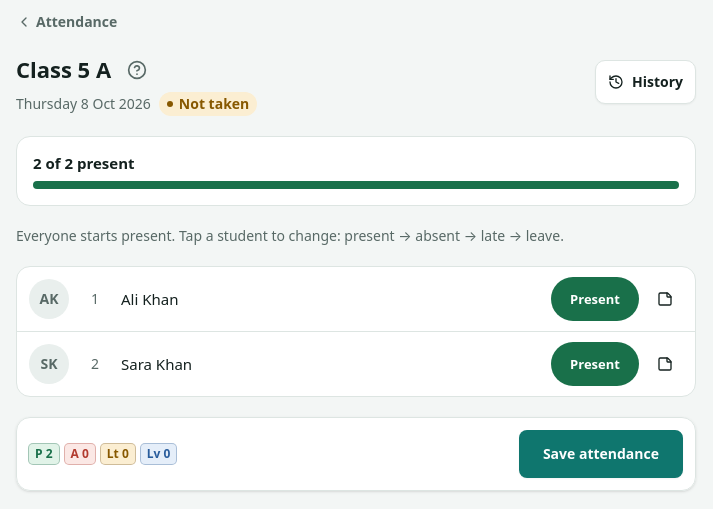
Test case: register row: the current mark is the word › a pill with Present → Absent → Late → Leave; the row keeps its aria-label; counts use Lt/Lv
expect the 1st text "Present" is shown: met, box top-left (551, 277), bottom-right (639, 321)
Click the button with aria-label "Ali Khan: Present".
click(49, 299)  # box top-left (17, 267), bottom-right (639, 331)
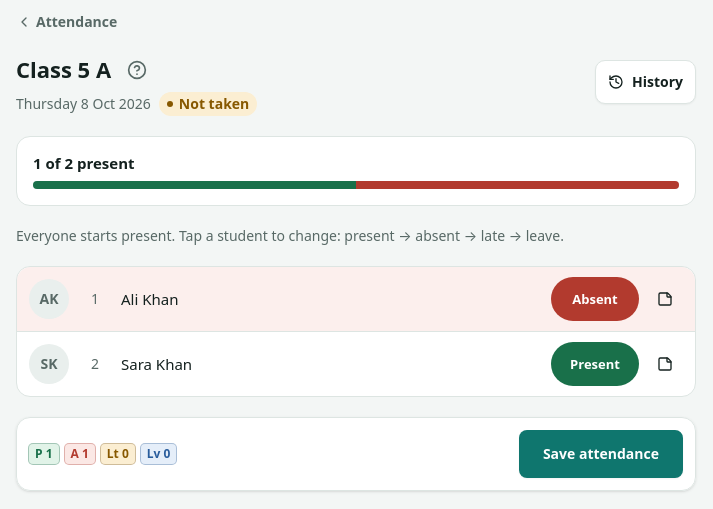
expect the text "Absent" is shown: met, box top-left (551, 277), bottom-right (639, 321)
Click the button named "Ali Khan: Present".
click(49, 299)  # box top-left (17, 267), bottom-right (639, 331)
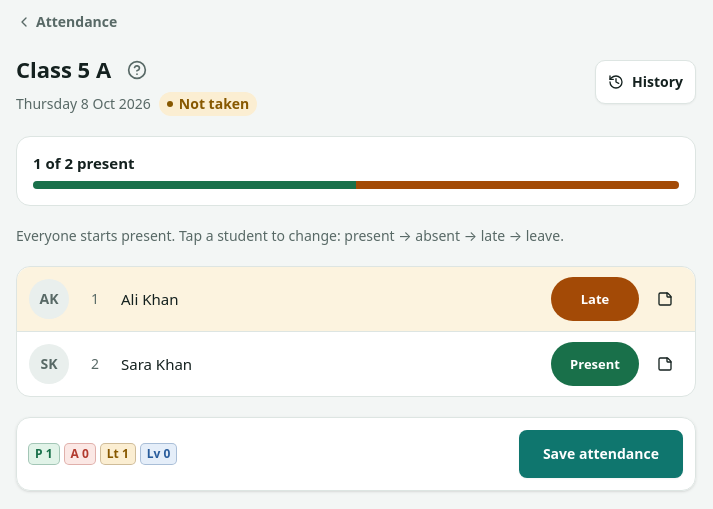
expect the text "Late" is shown: met, box top-left (551, 277), bottom-right (639, 321)
Click the button named "Ali Khan: Present".
click(49, 299)  # box top-left (17, 267), bottom-right (639, 331)
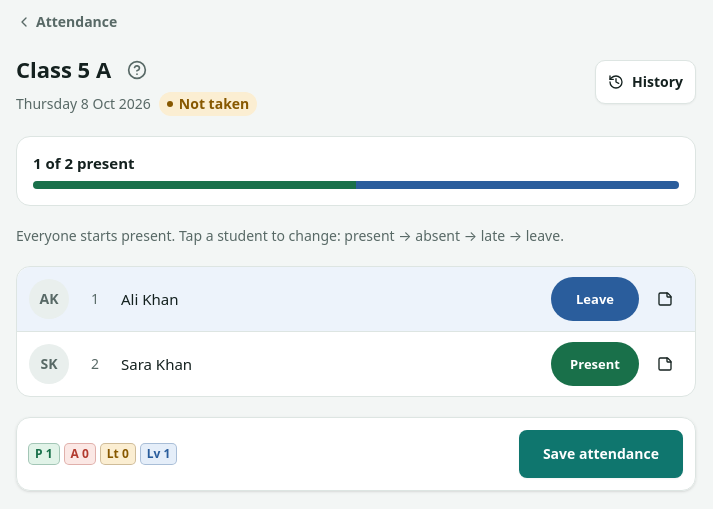
expect the text "Leave" is shown: met, box top-left (551, 277), bottom-right (639, 321)
